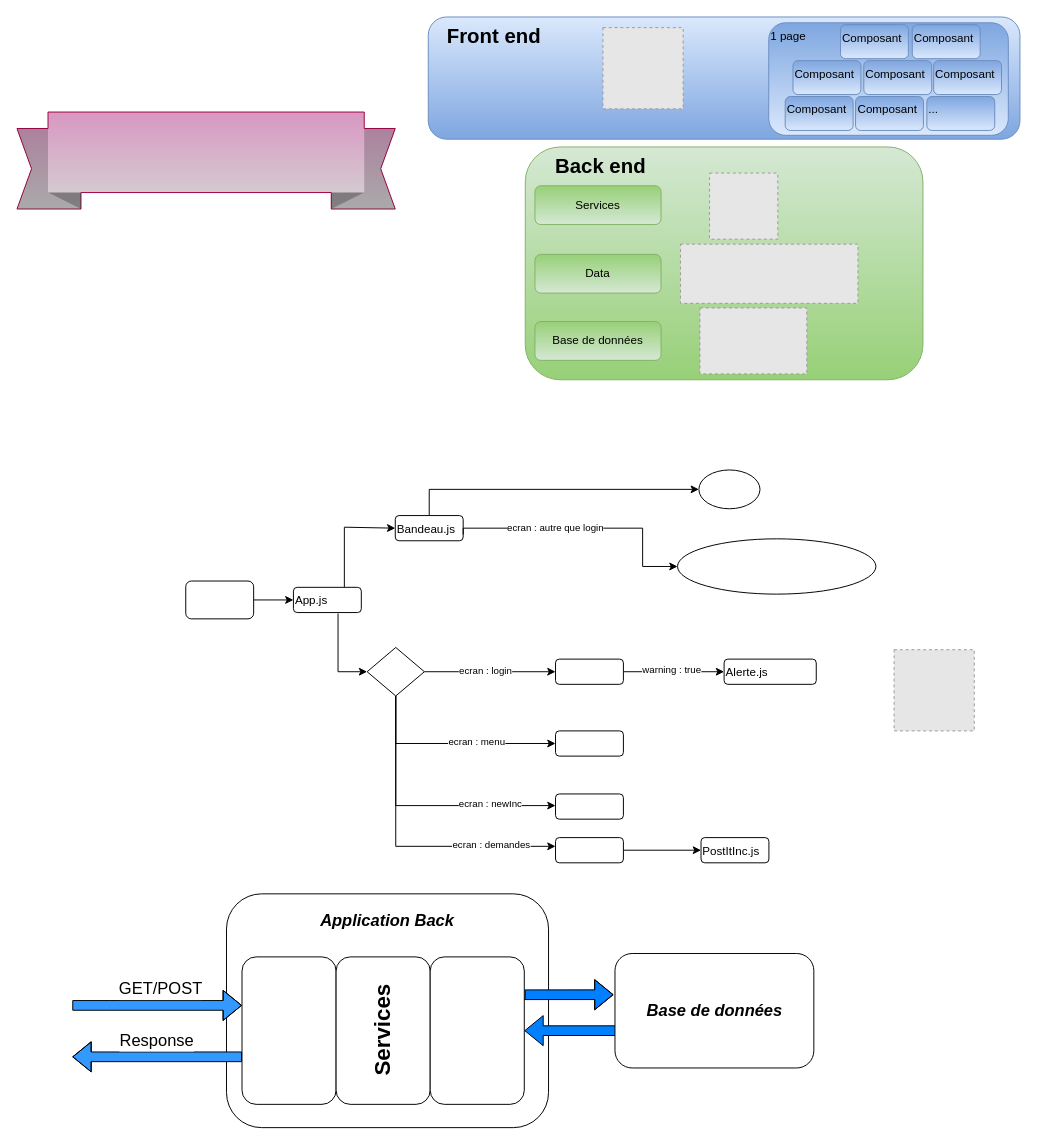
This 1037x1145 diagram has some shape labels left out. Grey dashed boxes stand in for pictures. Each missing label, with the centre of its shape:
"Accueil.js" belongs at point (589, 743).
"Application Front" belongs at point (219, 599).
"Demande.js" belongs at point (589, 850).
"infos utilisateur icones sortie/changement de mot de passe" belongs at point (776, 566).
"Login.js" belongs at point (589, 671).
"Logo" belongs at point (729, 489).
"NewInc.js" belongs at point (589, 806).
"ORM" belongs at point (476, 1030).
"serveur" belongs at point (288, 1030).
"SOS Immo" belongs at point (205, 160).
